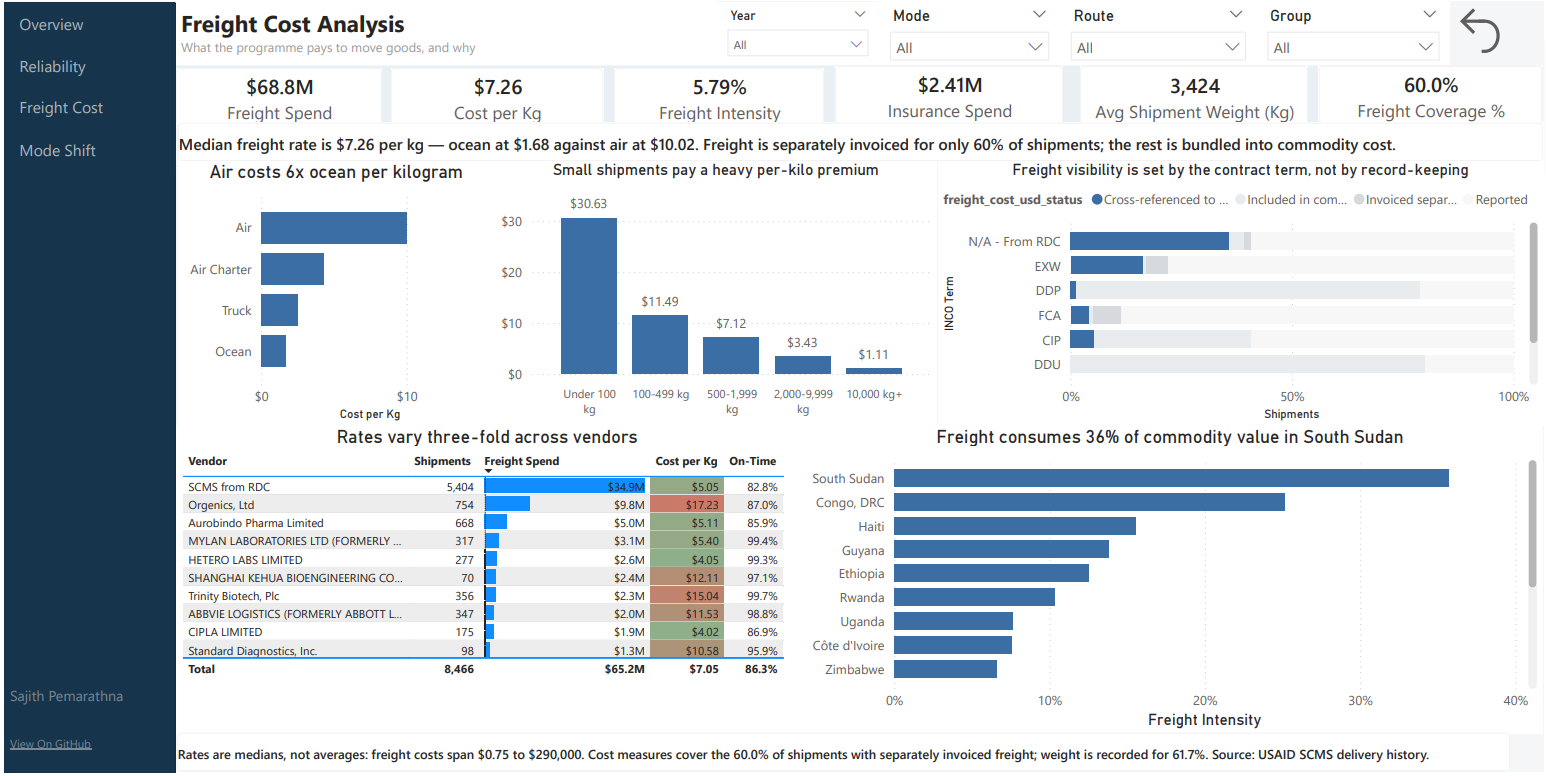

The page's visual inventory and layout, read from the dashboard file:
{"tool":"powerbi","page":{"name":"Freight Cost","canvas":[1440,720],"ordinal":2},"visuals":[{"type":"group","id":"g1","title":"Group 2","box":[666,0,686.5,58.9],"z":0},{"type":"slicer","fields":{"Values":["dim_date.year"]},"box":[666,0.8,151.6,58.1],"z":0,"group":"g1"},{"type":"cardVisual","fields":{"Data":["_Measures.Freight Spend"]},"box":[160.1,61.5,192.8,53.6],"z":0,"group":"g2"},{"type":"textbox","box":[160.2,0,505.4,59.5],"z":1000},{"type":"slicer","fields":{"Values":["dim_shipment_mode.Shipment Mode"]},"box":[817.5,0,169,58.8],"z":1000,"group":"g1"},{"type":"cardVisual","fields":{"Data":["_Measures.Freight Intensity"]},"box":[570.1,61.5,195.7,53.6],"z":1000,"group":"g2"},{"type":"slicer","fields":{"Values":["dim_product.Product Group"]},"box":[1170.6,0,181.9,58.8],"z":2000,"group":"g1"},{"type":"actionButton","box":[1353.4,0,85.1,54.1],"z":2000},{"type":"cardVisual","fields":{"Data":["_Measures.Freight Coverage %"]},"box":[1229.6,60.1,208.4,54.3],"z":2000,"group":"g2"},{"type":"slicer","fields":{"Values":["fact_shipment.fulfil_via"]},"box":[987,0,183.9,58.9],"z":3000,"group":"g1"},{"type":"group","id":"g2","title":"Group 1","box":[160.1,59.9,1277.9,55.3],"z":3000},{"type":"cardVisual","fields":{"Data":["_Measures.Cost per Kg"]},"box":[361.5,61.5,198.6,53.6],"z":3000,"group":"g2"},{"type":"cardVisual","fields":{"Data":["_Measures.Insurance Spend"]},"box":[777.4,60.1,213,53.6],"z":4000,"group":"g2"},{"type":"cardVisual","fields":{"Data":["_Measures.Cost Insight"]},"box":[161.8,113.4,1277.6,35.8],"z":4000},{"type":"cardVisual","fields":{"Data":["_Measures.Avg Shipment Weight"]},"box":[1006.4,59.9,213,55.1],"z":5000,"group":"g2"},{"type":"barChart","title":"Air costs 6x ocean per kilogram","fields":{"Category":["dim_shipment_mode.Shipment Mode"],"Y":["_Measures.Cost per Kg"]},"box":[161.8,149.3,297,246.3],"z":5000},{"type":"columnChart","title":"Small shipments pay a heavy per-kilo premium","fields":{"Category":["fact_shipment.Weight Band"],"Y":["_Measures.Cost per Kg"]},"box":[458.8,149.3,413.4,246.3],"z":6000},{"type":"hundredPercentStackedBarChart","title":"Freight visibility is set by the contract term, not by record-keeping","fields":{"Category":["fact_shipment.inco_term"],"Y":["_Measures.Shipments"],"Series":["fact_shipment.freight_cost_usd_status"]},"box":[873.1,149.4,566.2,246.8],"z":7000},{"type":"tableEx","title":"Rates vary three-fold across vendors","fields":{"Values":["dim_vendor.Vendor","_Measures.Shipments","_Measures.Freight Spend","_Measures.Cost per Kg","_Measures.On-Time"]},"box":[160.8,395.9,581.1,287.8],"z":8000},{"type":"barChart","title":"Freight consumes 36% of commodity value in South Sudan","fields":{"Category":["dim_country.Country"],"Y":["_Measures.Freight Intensity"]},"box":[741.9,395.9,695.9,287.8],"z":9000},{"type":"cardVisual","fields":{"Data":["_Measures.Cost Footnote"]},"box":[161.4,683.1,1246.8,36.4],"z":10000},{"type":"shape","box":[0,1.3,159.7,719.5],"z":11000},{"type":"actionButton","box":[-0.4,0.6,160,40],"z":12000},{"type":"actionButton","box":[-0.4,40.7,159.8,40.2],"z":13000},{"type":"actionButton","box":[-0.4,78.5,159.7,40.3],"z":14000},{"type":"actionButton","box":[-0.4,118.7,159.7,39],"z":15000},{"type":"textbox","box":[-0.4,678.2,159.7,41.8],"z":16000},{"type":"textbox","box":[-0.4,634.9,159.7,41.8],"z":17000},{"type":"shape","box":[0,0,158.6,720.7],"z":18000},{"type":"actionButton","box":[0,0,160,40],"z":19000},{"type":"actionButton","box":[0,40.2,159.8,40.2],"z":20000},{"type":"actionButton","box":[0,77.9,159.7,40.3],"z":21000},{"type":"actionButton","box":[0,118.2,159.7,39],"z":22000},{"type":"textbox","box":[0,677.6,159.7,41.8],"z":23000},{"type":"textbox","box":[0,634.3,159.7,41.8],"z":24000}]}

Visuals, with their boxes on the page's 1440x720 design canvas (x1, y1, x2, y2). These are canvas units, not pixel positions in the 1546x776 screenshot, which may show the page scaled, cropped or inside an application window:
"Group 2" group: <box>666,0,1352,59</box>
slicer - dim_date.year: <box>666,1,818,59</box>
cardVisual - _Measures.Freight Spend: <box>160,62,353,115</box>
textbox: <box>160,0,666,60</box>
slicer - dim_shipment_mode.Shipment Mode: <box>818,0,986,59</box>
cardVisual - _Measures.Freight Intensity: <box>570,62,766,115</box>
slicer - dim_product.Product Group: <box>1171,0,1352,59</box>
actionButton: <box>1353,0,1438,54</box>
cardVisual - _Measures.Freight Coverage %: <box>1230,60,1438,114</box>
slicer - fact_shipment.fulfil_via: <box>987,0,1171,59</box>
"Group 1" group: <box>160,60,1438,115</box>
cardVisual - _Measures.Cost per Kg: <box>362,62,560,115</box>
cardVisual - _Measures.Insurance Spend: <box>777,60,990,114</box>
cardVisual - _Measures.Cost Insight: <box>162,113,1439,149</box>
cardVisual - _Measures.Avg Shipment Weight: <box>1006,60,1219,115</box>
"Air costs 6x ocean per kilogram" barChart: <box>162,149,459,396</box>
"Small shipments pay a heavy per-kilo premium" columnChart: <box>459,149,872,396</box>
"Freight visibility is set by the contract term, not by record-keeping" hundredPercentStackedBarChart: <box>873,149,1439,396</box>
"Rates vary three-fold across vendors" tableEx: <box>161,396,742,684</box>
"Freight consumes 36% of commodity value in South Sudan" barChart: <box>742,396,1438,684</box>
cardVisual - _Measures.Cost Footnote: <box>161,683,1408,720</box>
shape: <box>0,1,160,721</box>
actionButton: <box>0,1,160,41</box>
actionButton: <box>0,41,159,81</box>
actionButton: <box>0,78,159,119</box>
actionButton: <box>0,119,159,158</box>
textbox: <box>0,678,159,720</box>
textbox: <box>0,635,159,677</box>
shape: <box>0,0,159,721</box>
actionButton: <box>0,0,160,40</box>
actionButton: <box>0,40,160,80</box>
actionButton: <box>0,78,160,118</box>
actionButton: <box>0,118,160,157</box>
textbox: <box>0,678,160,719</box>
textbox: <box>0,634,160,676</box>
